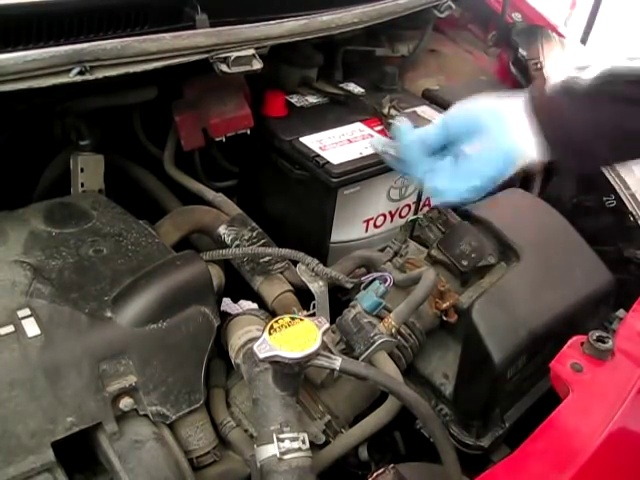battery: (256, 60, 456, 178)
pos_disconnected: (178, 85, 293, 139)
